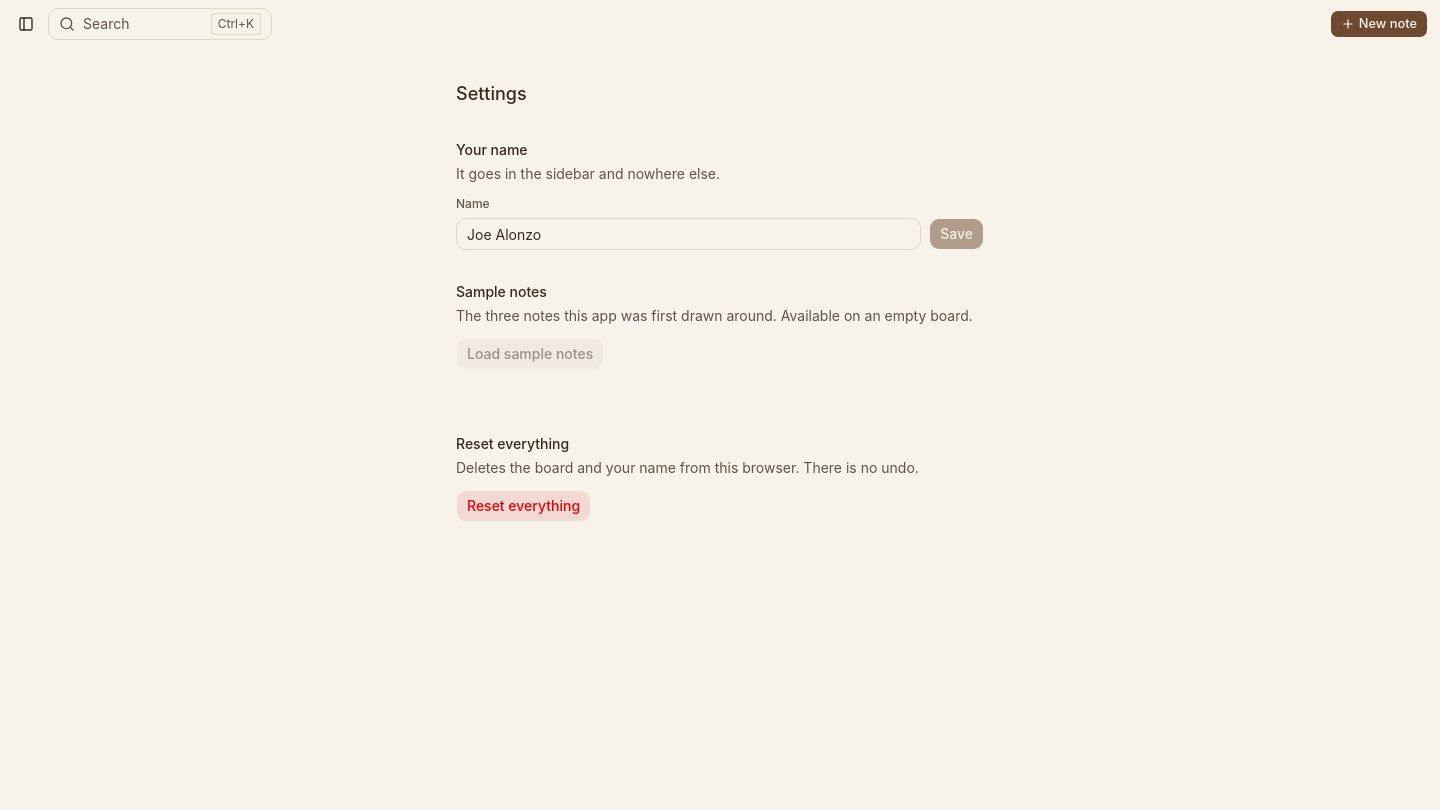
T85 · reset › changes nothing until it is confirmed
Click the button "Reset everything".
click(524, 506)  # box [456,490,591,522]
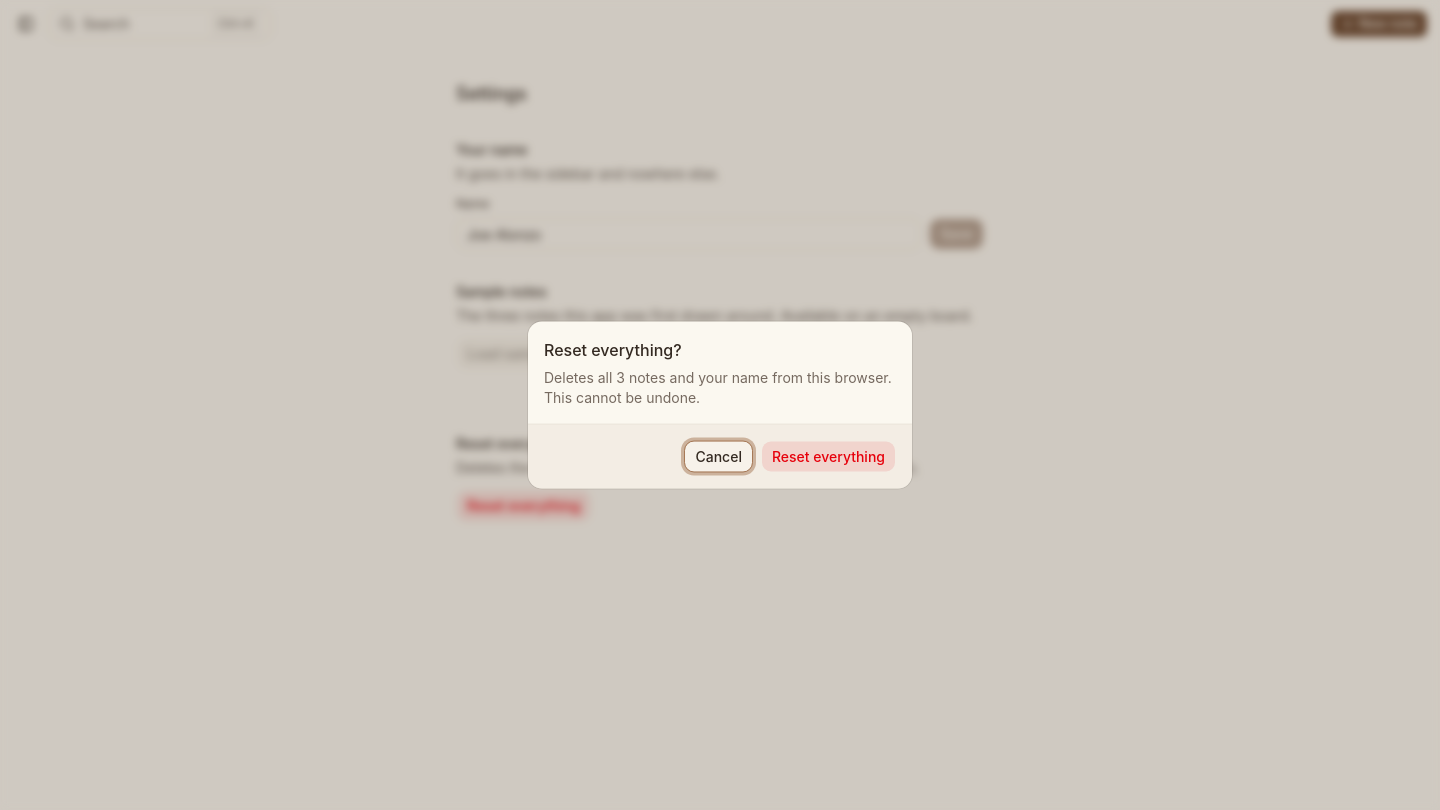
Check: the dialog is shown, box [528,322,912,488]
